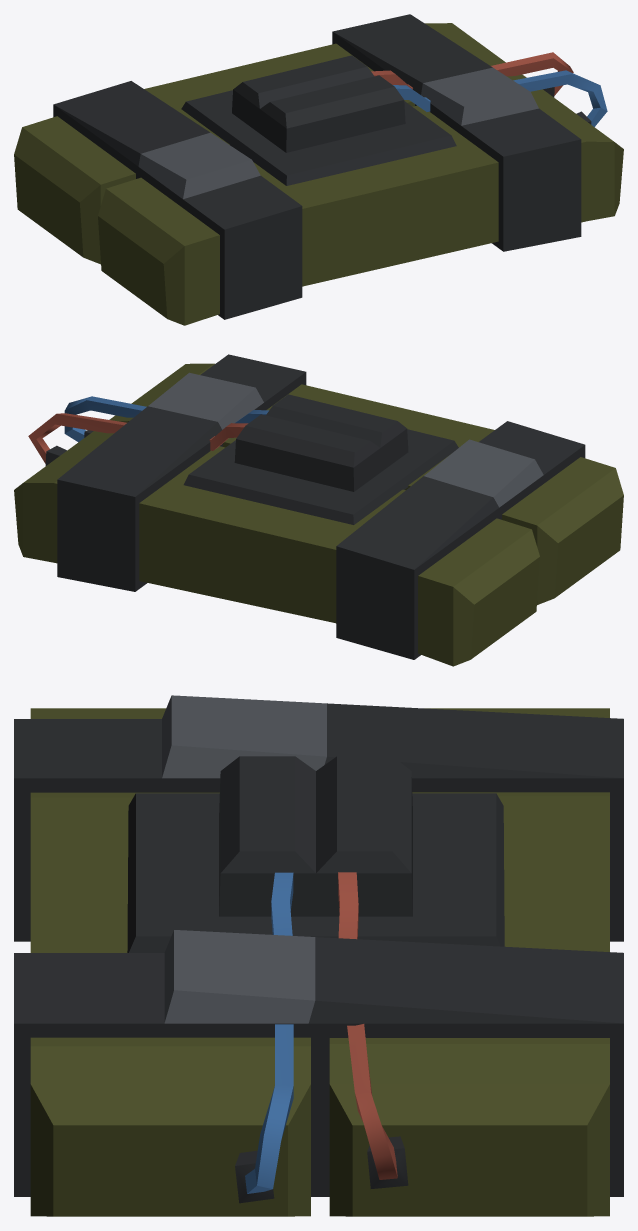
Rendered from SM_Prop_C4_01.fbx.
The picture shows the model from 3 angles, top to bottom: view 1: azimuth 30°, elevation 25°; view 2: azimuth 150°, elevation 25°; view 3: azimuth 270°, elevation 25°; orthographic projection. The views are drawn at different scales.
Parts seen in each view (by area): view 1: SM_Prop_C4_01; view 2: SM_Prop_C4_01; view 3: SM_Prop_C4_01.
Part boxes in pixels (x1,y1,x2,y2): SM_Prop_C4_01: (14, 14, 623, 325); SM_Prop_C4_01: (14, 354, 623, 666); SM_Prop_C4_01: (14, 695, 623, 1216).
Bounding box in the file's own units: 50.99 × 13.02 × 30.16.
